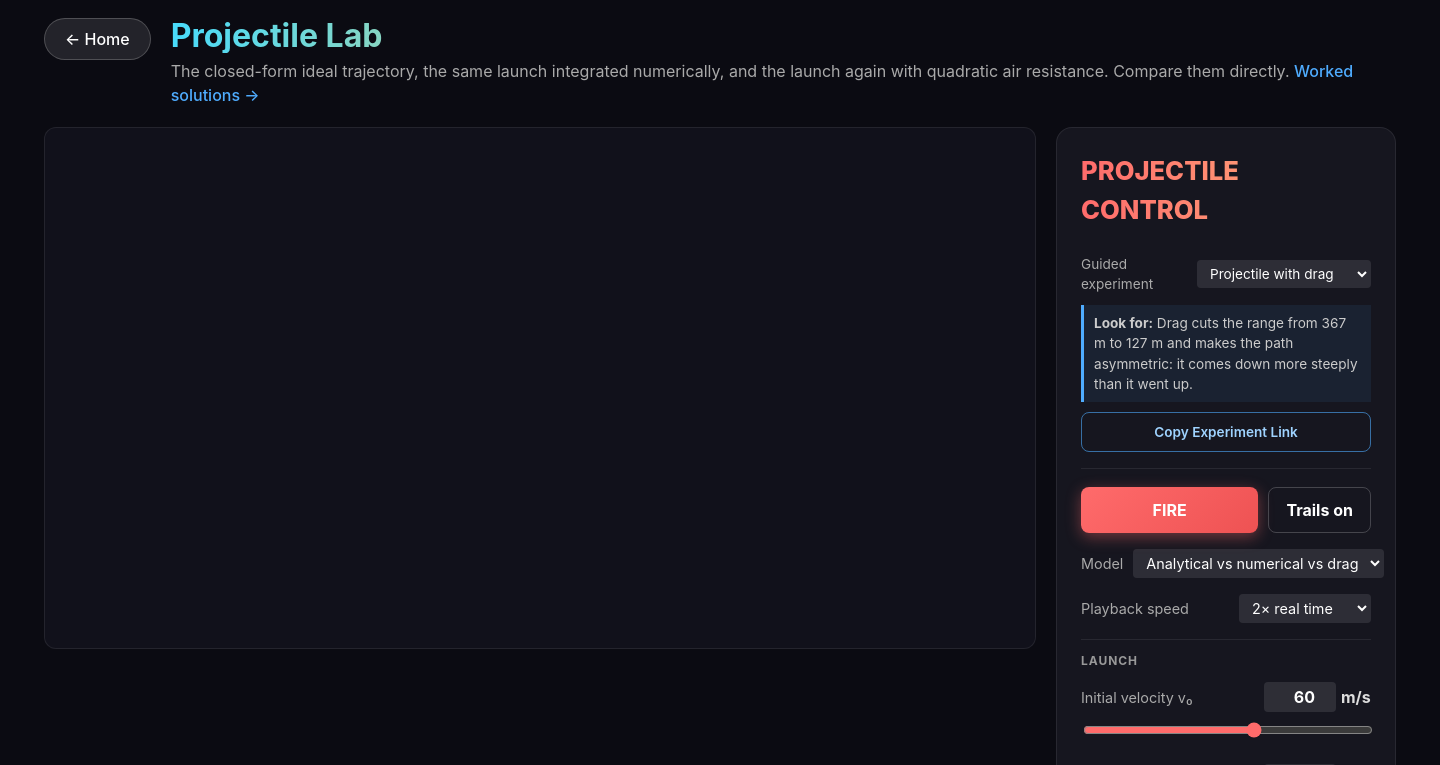
Test: Projectile Lab › shows predicted metrics that follow the controls
Set the slider labelled "Initial velocity v₀" to "40" at coordinates (1199, 730), box [1083,722,1373,738]
(page scrolled)
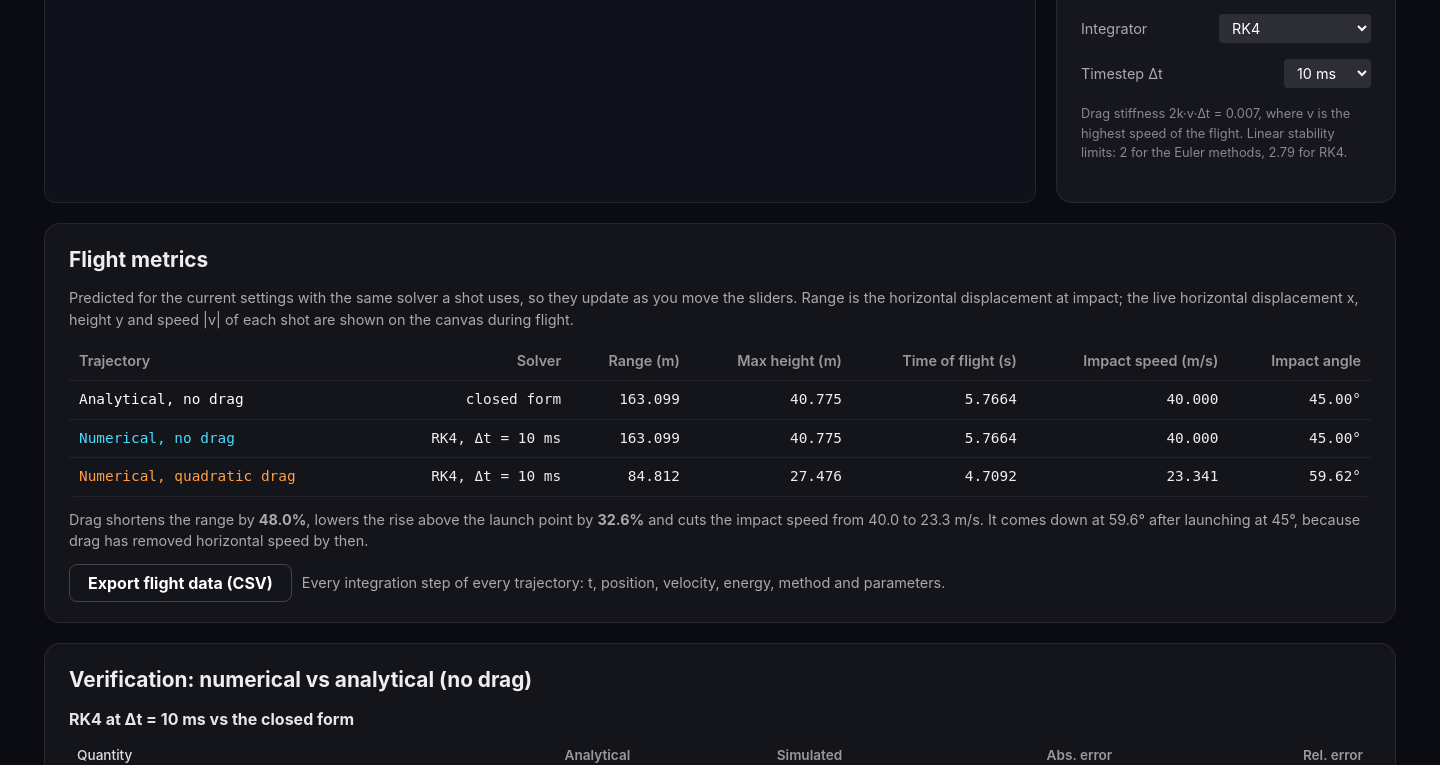
Check: the row that starts with "Analytical, no drag" shows "163.099", box [619,391,680,407]
